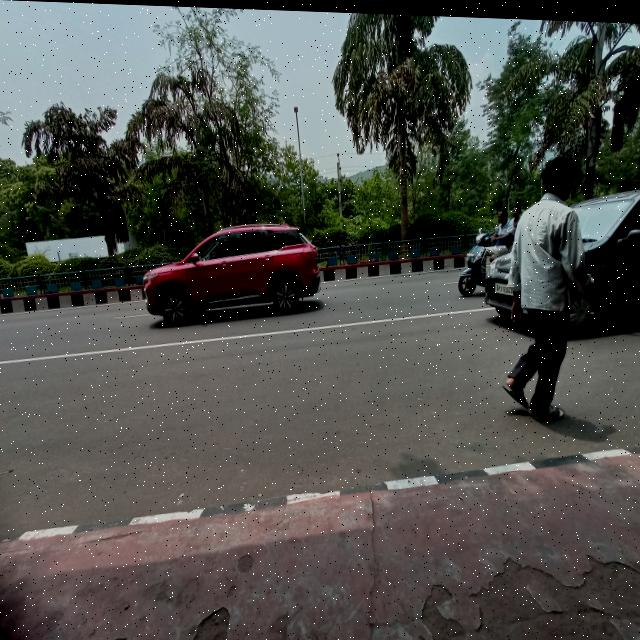car: (136, 212, 328, 331)
